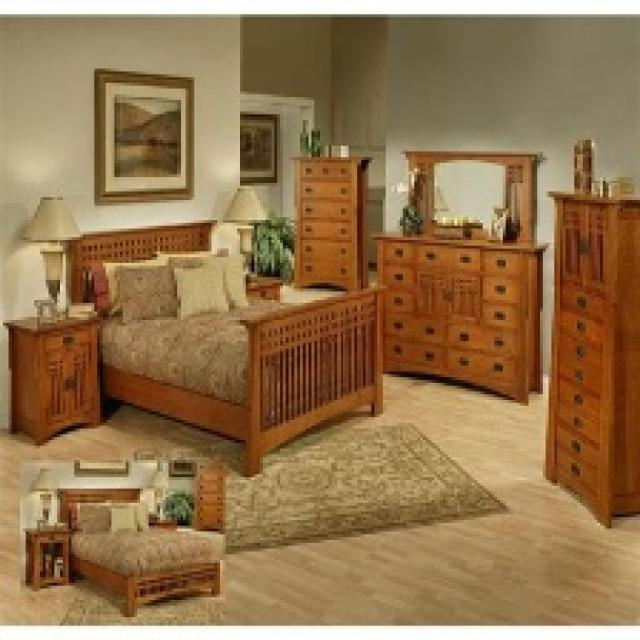Bed: (68, 217, 386, 477)
